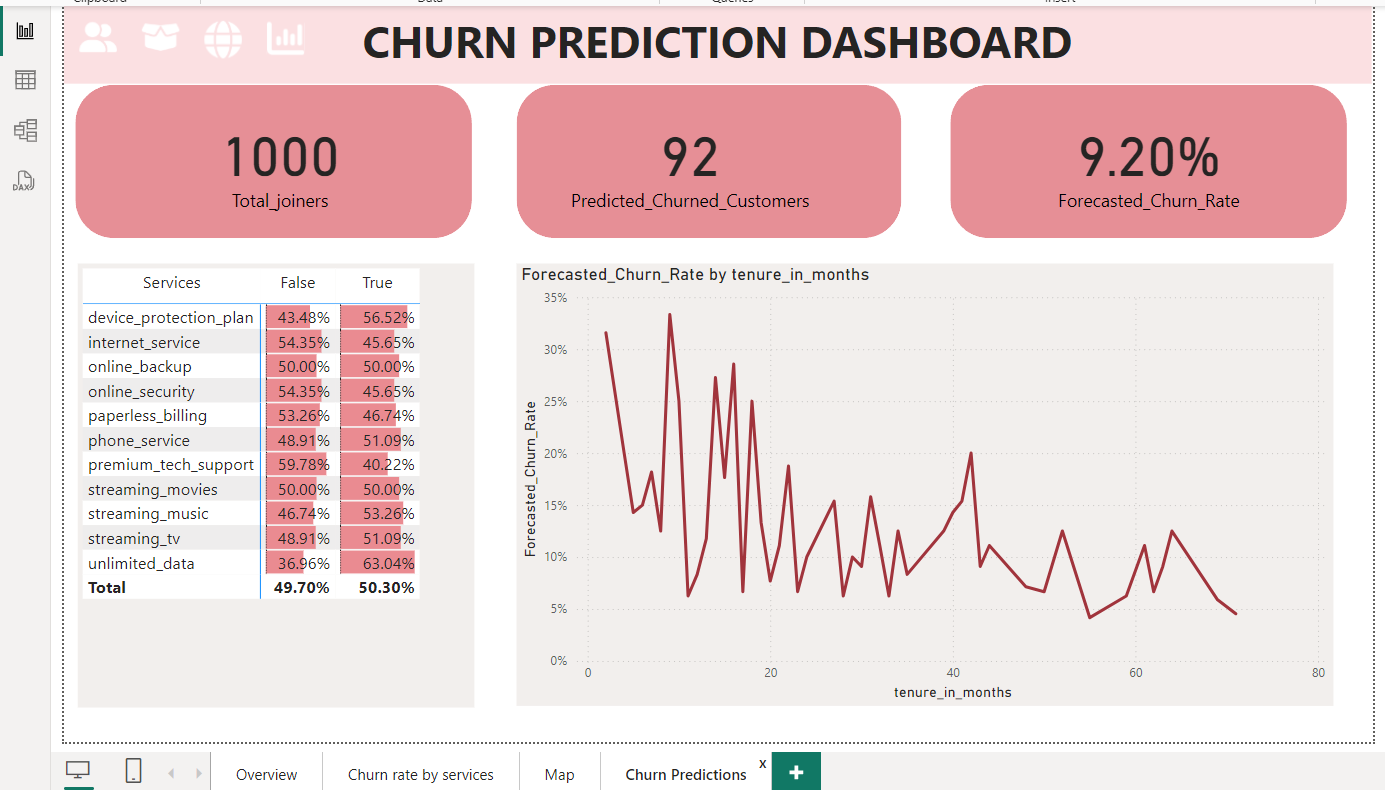

What the dashboard file says about the page in this screenshot:
{"tool":"powerbi","page":{"name":"Churn Predictions","canvas":[1280,720],"ordinal":3},"visuals":[{"type":"actionButton","box":[11.5,4.3,44.7,50.5],"z":0,"group":"g1"},{"type":"shape","box":[11.5,76.5,388.1,150],"z":0},{"type":"shape","box":[0,0,1279.3,76.1],"z":1000},{"type":"actionButton","box":[72.6,4.3,44.7,50.5],"z":1000,"group":"g1"},{"type":"actionButton","box":[194.7,5.7,44.7,50.5],"z":2000,"group":"g1"},{"type":"shape","box":[442.9,76.5,376.6,150],"z":2000},{"type":"actionButton","box":[133.7,7.2,44.7,50.5],"z":3000,"group":"g1"},{"type":"shape","box":[867.1,76.5,388.1,150],"z":3000},{"type":"card","fields":{"Values":["new_data.Total_joiners"]},"box":[83.7,89.5,256.8,124.1],"z":4000},{"type":"card","fields":{"Values":["new_data.Predicted_Churned_Customers"]},"box":[484.8,89.5,256.8,124.1],"z":5000},{"type":"card","fields":{"Values":["new_data.Forecasted_Churn_Rate"]},"box":[933.5,89.5,256.8,124.1],"z":6000},{"type":"pivotTable","fields":{"Rows":["new_data_services.Services"],"Columns":["new_data_services.Status"],"Values":["Sum(new_data_services.Predicted_churn)"]},"box":[13,252.5,388.1,434.3],"z":7000},{"type":"lineChart","fields":{"Category":["new_data.tenure_in_months"],"Y":["new_data.Forecasted_Churn_Rate"]},"box":[442.9,252.5,799.3,432.8],"z":8000},{"type":"textbox","box":[148.6,0,979.6,76.5],"z":9000},{"type":"group","id":"g1","title":"Navigation buttons","box":[11.5,4.3,228,53.4],"z":10000}]}

Visuals, with their boxes on the page's 1280x720 design canvas (x1, y1, x2, y2). These are canvas units, not pixel positions in the 1385x790 screenshot, which may show the page scaled, cropped or inside an application window:
actionButton: 12, 4, 56, 55
shape: 12, 76, 400, 226
shape: 0, 0, 1279, 76
actionButton: 73, 4, 117, 55
actionButton: 195, 6, 239, 56
shape: 443, 76, 820, 226
actionButton: 134, 7, 178, 58
shape: 867, 76, 1255, 226
card - new_data.Total_joiners: 84, 90, 340, 214
card - new_data.Predicted_Churned_Customers: 485, 90, 742, 214
card - new_data.Forecasted_Churn_Rate: 934, 90, 1190, 214
pivotTable - new_data_services.Services x new_data_services.Status: 13, 252, 401, 687
lineChart - new_data.tenure_in_months x new_data.Forecasted_Churn_Rate: 443, 252, 1242, 685
textbox: 149, 0, 1128, 76
"Navigation buttons" group: 12, 4, 240, 58
